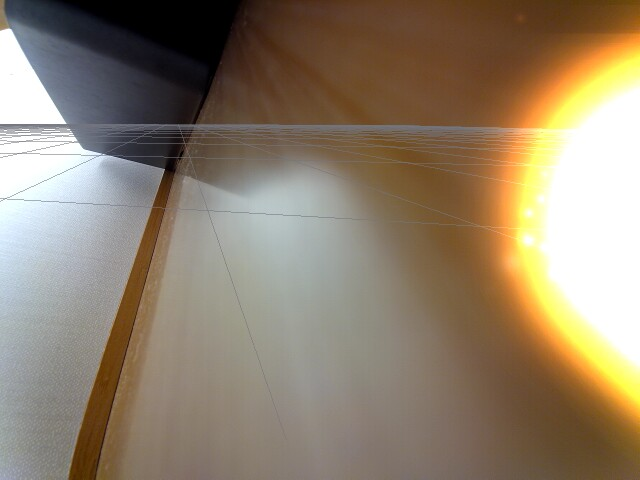firebig: (495, 54, 640, 413)
